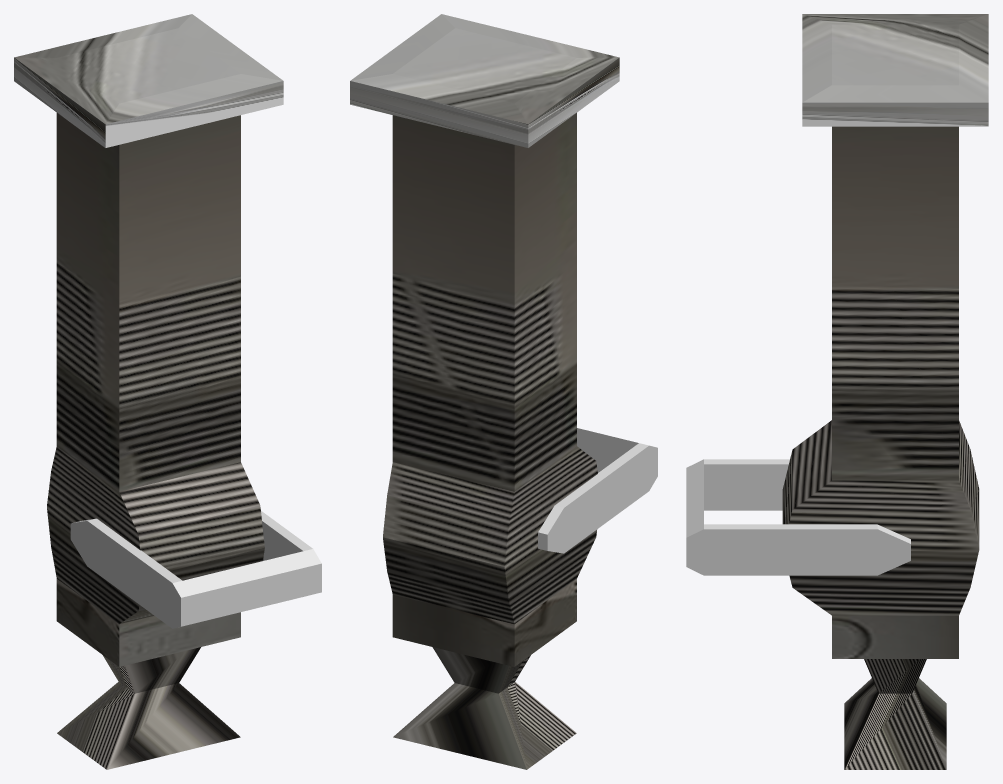
Rendered from FoodDispenser.fbx.
3 views of the same model, side by side, from view 1: azimuth 30°, elevation 25°; view 2: azimuth 150°, elevation 25°; view 3: azimuth 270°, elevation 25° (orthographic).
Visible parts, largest first — view 1: Cube.027, Cube.028; view 2: Cube.027, Cube.028; view 3: Cube.027, Cube.028.
Boxes of the visible parts, bbox=[...] form: Cube.027: bbox=[14, 14, 283, 769]; Cube.028: bbox=[70, 511, 321, 628]; Cube.027: bbox=[350, 14, 619, 769]; Cube.028: bbox=[538, 428, 657, 553]; Cube.027: bbox=[782, 14, 988, 769]; Cube.028: bbox=[686, 459, 910, 575].
Bounding box in the file's own units: 34.63 × 124 × 49.93.
